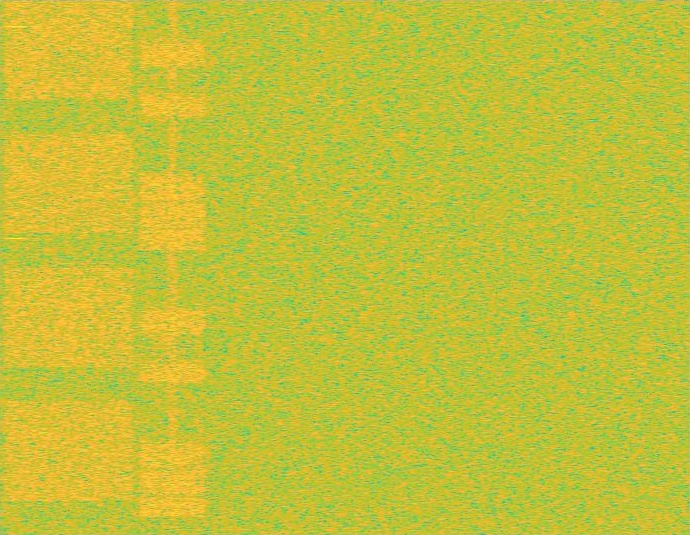5G: (0, 0, 138, 534)
DSSS: (168, 0, 177, 534)
LTE: (138, 0, 207, 534)
Radar: (9, 0, 23, 534)
